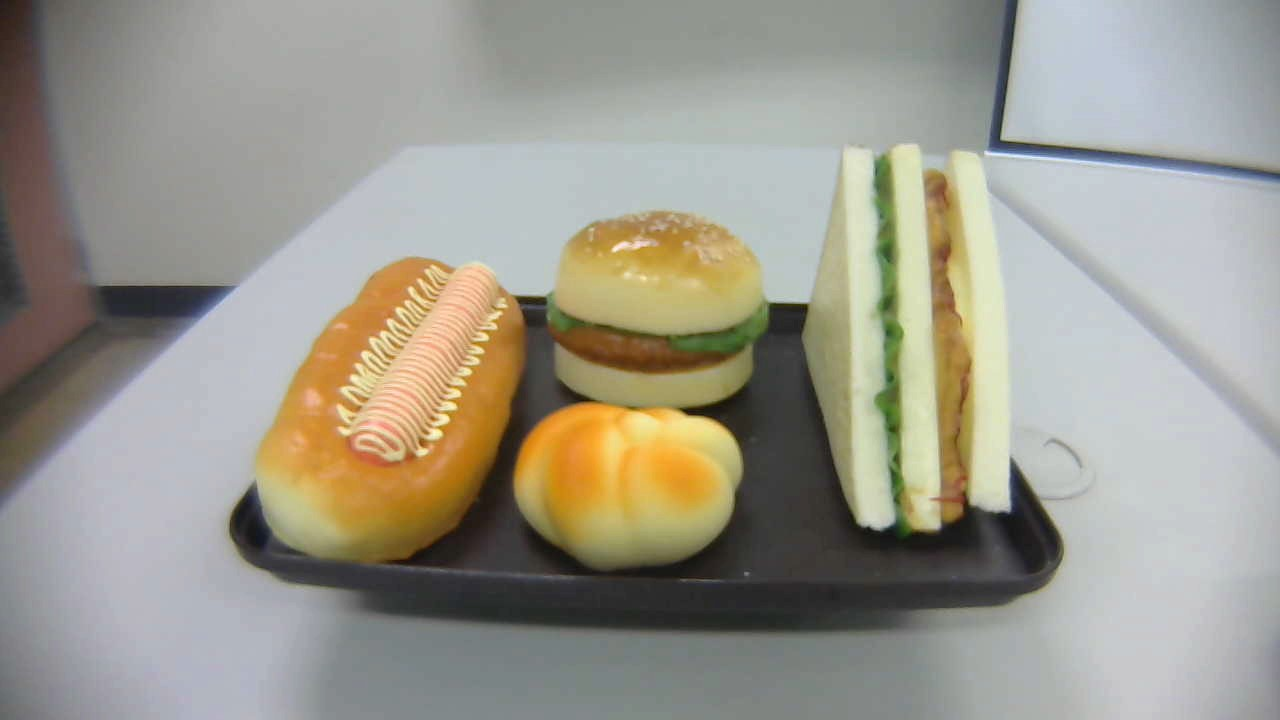hamburger: (548, 210, 770, 408)
hot dog: (256, 255, 528, 562)
sandwich: (800, 141, 1014, 538)
twist bread: (513, 400, 744, 576)
